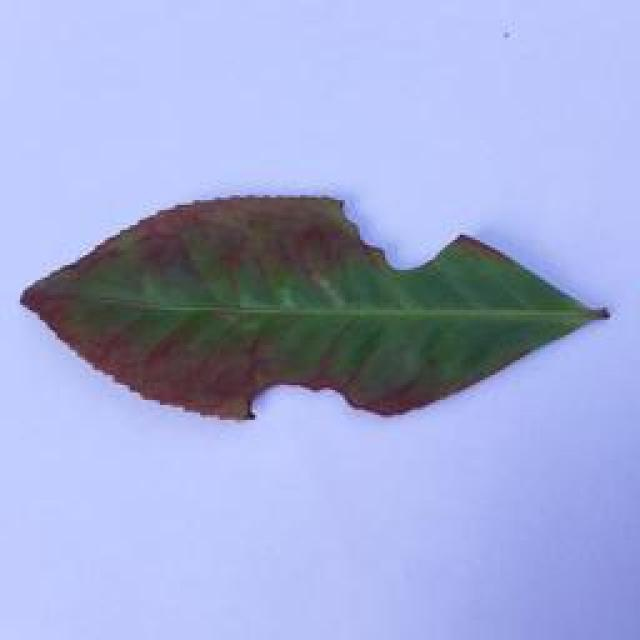Red Leaf Spot: (14, 189, 616, 436)
